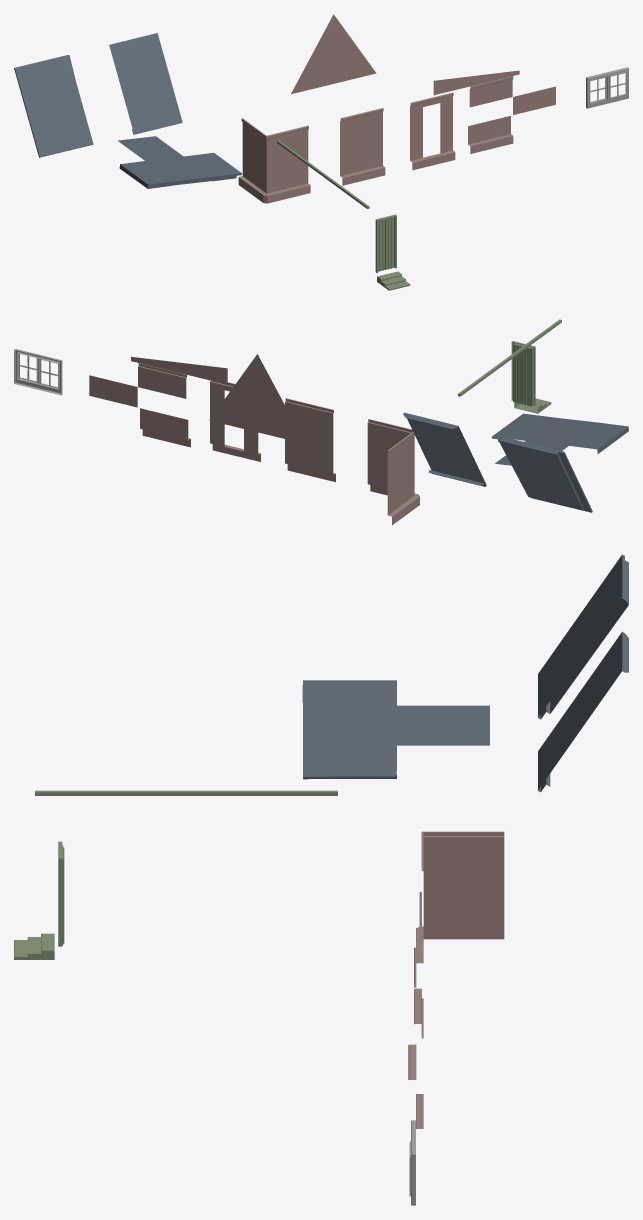
Rendered from Modules.fbx.
3 renders of one model, top to bottom at view 1: azimuth 30°, elevation 25°; view 2: azimuth 150°, elevation 25°; view 3: azimuth 270°, elevation 25°, orthographic. The views are drawn at different scales.
Parts seen in each view (by area): view 1: Roof_Module1, Roof_Module, Wall_Module, Wall_Module2, Wall_Module1, Wall_ModuleDoor, Wall_Module_Bottom, Roof_Module3, Roof_Module4, Wall_Module_Top, Roof_Module5, Roof_Module2 (+7 smaller); view 2: Wall_Module, Wall_Module2, Roof_Module1, Wall_Module1, Roof_Module, Wall_ModuleDoor, Wall_Module_Bottom, Wall_Module_Top, Roof_Module3, Door, Wall_Module_Middle, Roof_Module5 (+7 smaller); view 3: Wall_Module, Roof_Module1, Roof_Module3, Roof_Module4, Roof_Module, Roof_Module5, Roof_Module2, Extra_1, Stair.
Part boxes in pixels (x1,y1,x2,y2): Roof_Module1: [14, 55, 93, 157]; Roof_Module: [109, 33, 182, 134]; Wall_Module: [238, 118, 310, 203]; Wall_Module2: [291, 14, 376, 94]; Wall_Module1: [340, 108, 385, 185]; Wall_ModuleDoor: [410, 92, 455, 170]; Wall_Module_Bottom: [468, 116, 513, 153]; Roof_Module3: [145, 156, 211, 185]; Roof_Module4: [118, 136, 183, 160]; Wall_Module_Top: [469, 76, 513, 107]; Roof_Module5: [184, 152, 241, 181]; Roof_Module2: [119, 161, 173, 188]; Wall_Module: [367, 419, 419, 525]; Wall_Module2: [209, 354, 305, 443]; Roof_Module1: [498, 437, 592, 512]; Wall_Module1: [285, 398, 335, 482]; Roof_Module: [403, 412, 486, 486]; Wall_ModuleDoor: [210, 380, 260, 461]; Wall_Module_Bottom: [140, 408, 190, 447]; Wall_Module_Top: [138, 363, 186, 398]; Roof_Module3: [526, 418, 599, 445]; Door: [513, 344, 532, 406]; Wall_Module_Middle: [89, 375, 137, 407]; Roof_Module5: [491, 413, 556, 441]; Wall_Module: [416, 831, 504, 963]; Roof_Module1: [538, 554, 628, 719]; Roof_Module3: [303, 705, 396, 745]; Roof_Module4: [397, 705, 489, 745]; Roof_Module: [538, 631, 628, 792]; Roof_Module5: [303, 745, 396, 779]; Roof_Module2: [302, 680, 396, 705]; Extra_1: [35, 790, 337, 795]; Stair: [14, 933, 54, 959].
Bounding box in the file's own units: 26.33 × 6.27 × 15.17.
